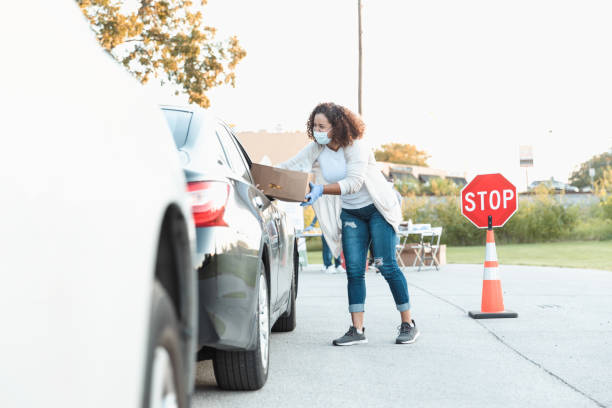with mask: (297, 103, 344, 149)
